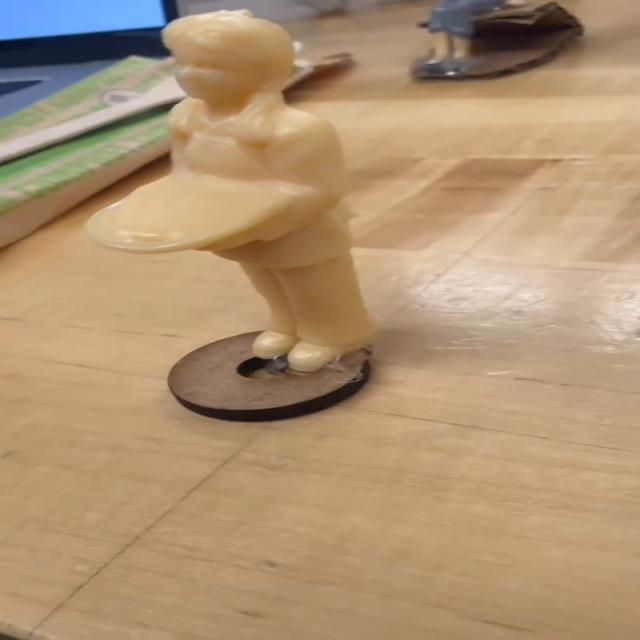Unauthorized: (109, 9, 423, 371)
